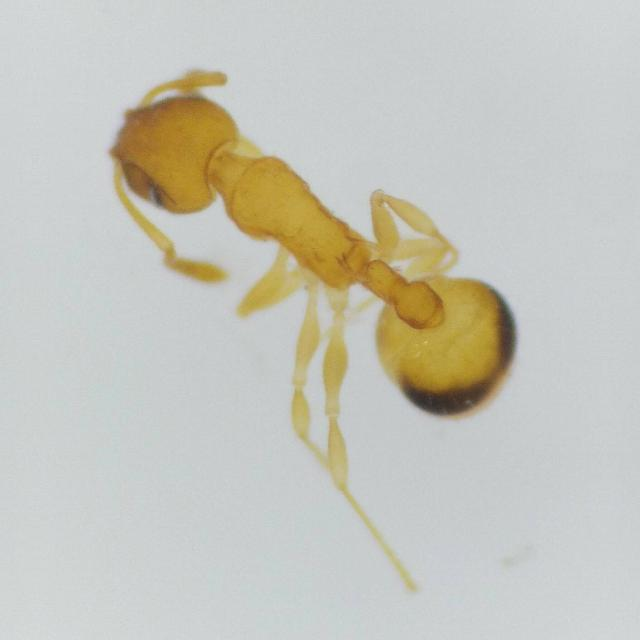Temnothorax: (72, 32, 560, 520)
